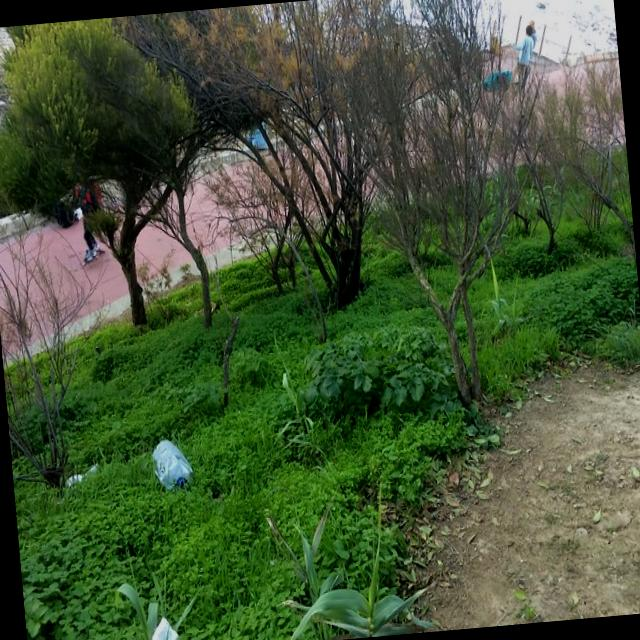Recycle: (148, 433, 194, 492)
